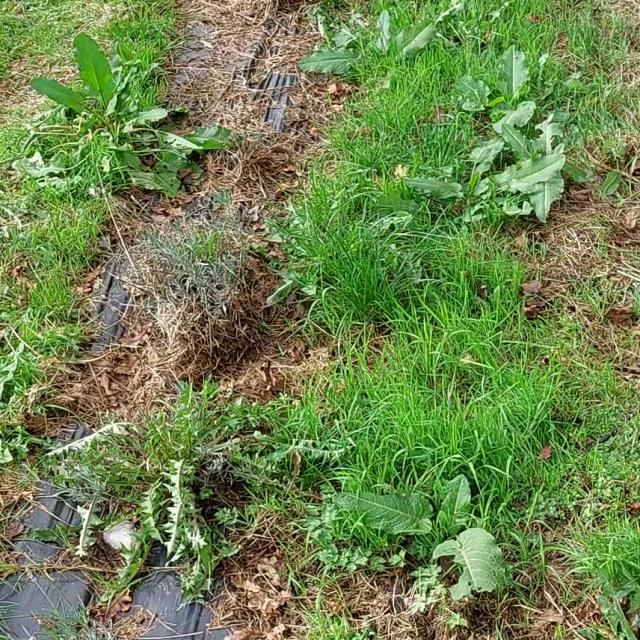organic waste: (19, 18, 232, 185), (353, 438, 540, 610), (405, 124, 586, 247), (455, 42, 603, 152), (301, 0, 476, 88)
